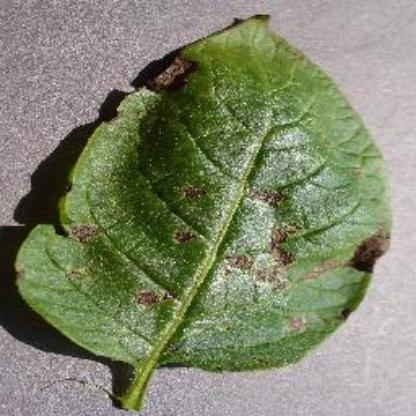Early-Blight: (19, 12, 394, 402)
